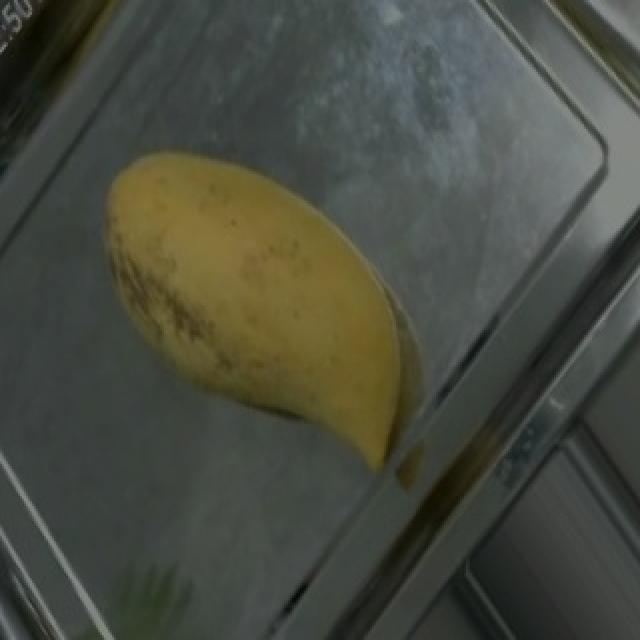fruit: (50, 94, 466, 469)
